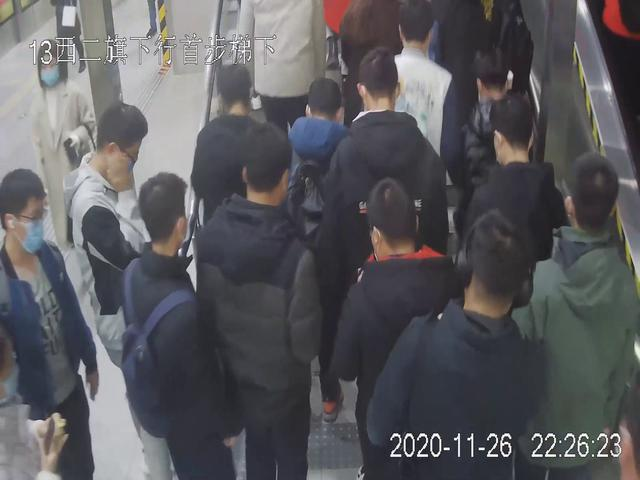person: (362, 206, 549, 480), (190, 119, 325, 480), (504, 148, 640, 476), (323, 45, 447, 362), (64, 101, 165, 466), (120, 167, 233, 480), (1, 167, 101, 480), (28, 35, 100, 306)
